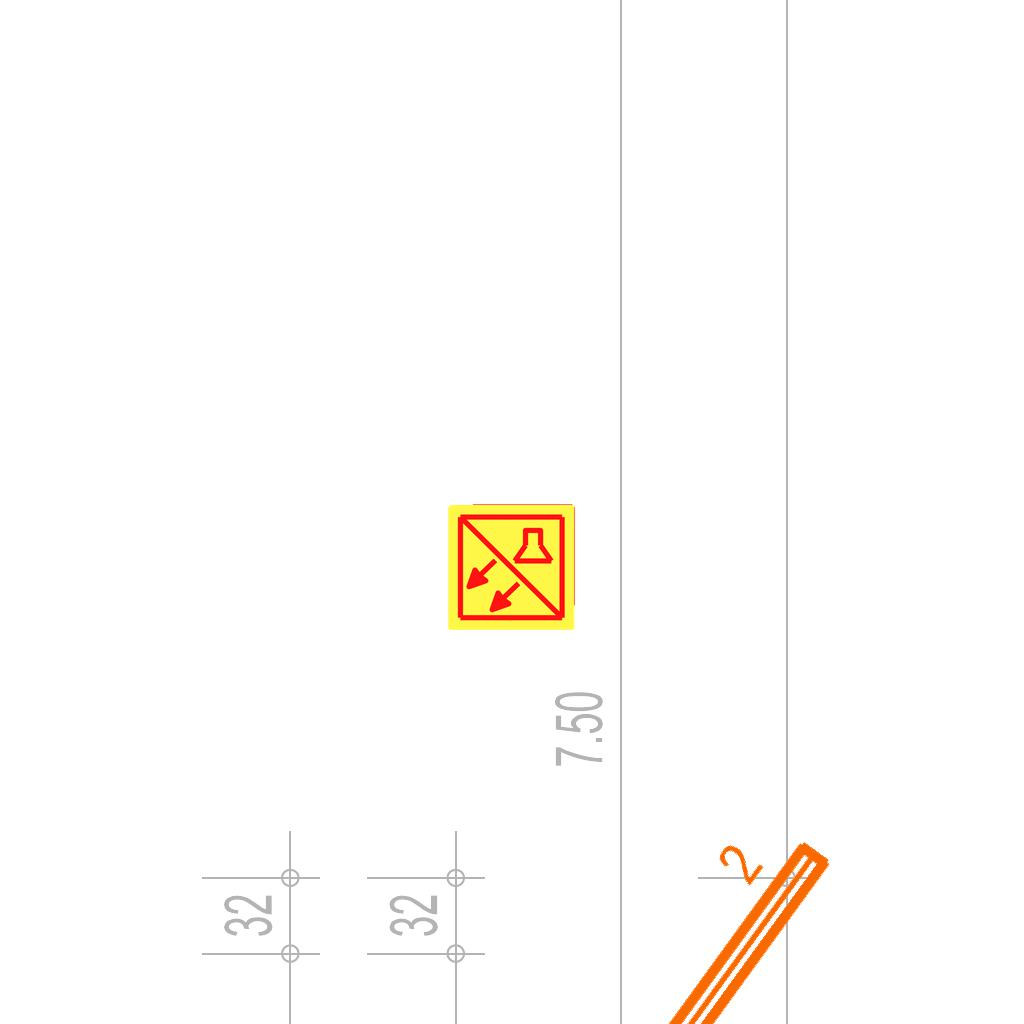Ambulanz_Pendelleuchte_LED: (301, 795, 847, 1024)
OKW_Multisensormelder_(Kombination_optischer_Rauch-Kahlenmonoxid_Waerme-Melder): (445, 501, 577, 633)
